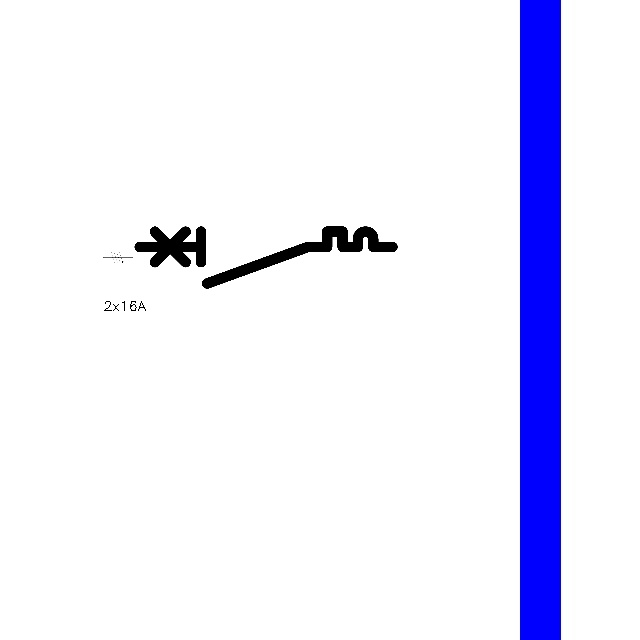interruptor_termomagnetico: (133, 225, 399, 290)
